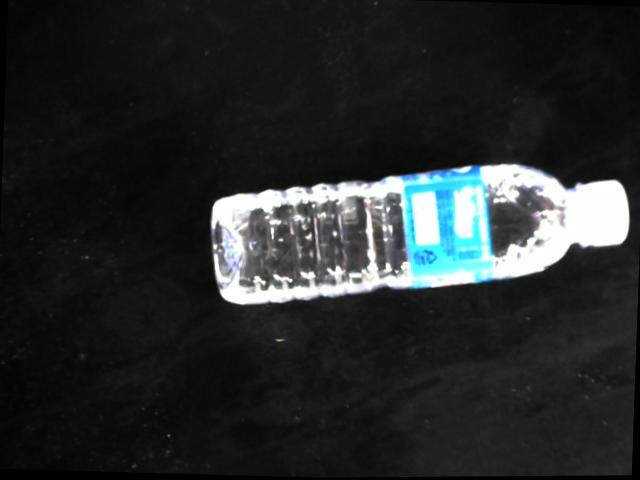bottle: (209, 162, 631, 308)
